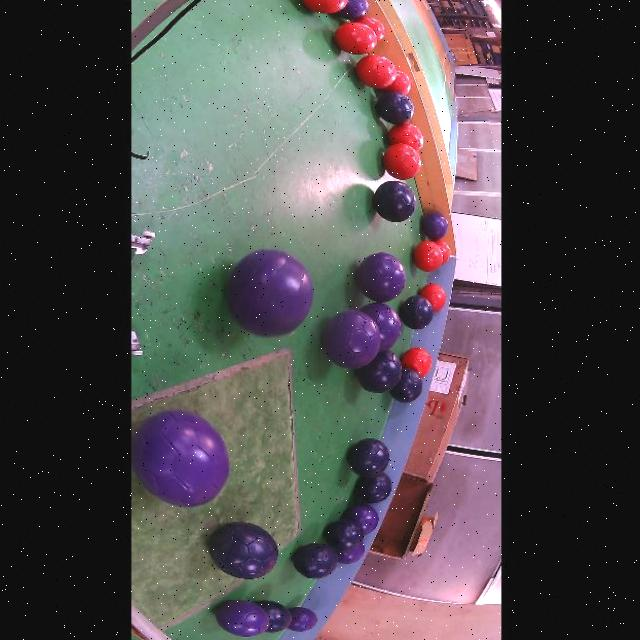B: (209, 521, 278, 579), (355, 350, 401, 393), (373, 181, 416, 223), (347, 438, 389, 478), (292, 543, 338, 579), (324, 519, 364, 552), (375, 92, 414, 125), (254, 600, 292, 632), (389, 368, 423, 403), (400, 295, 433, 330), (356, 473, 392, 503)
P: (132, 410, 229, 507), (226, 250, 312, 336), (323, 310, 380, 368), (356, 253, 406, 303), (216, 600, 269, 637), (361, 303, 401, 352), (344, 503, 379, 534), (422, 211, 449, 240), (288, 608, 317, 632), (337, 0, 369, 20), (337, 543, 365, 564)
R: (334, 22, 378, 55), (383, 143, 422, 179), (355, 55, 396, 88), (388, 123, 424, 151), (413, 241, 443, 272), (401, 348, 432, 377), (419, 283, 446, 312), (380, 69, 411, 94), (357, 16, 386, 42), (301, 0, 348, 13), (434, 238, 451, 264)
